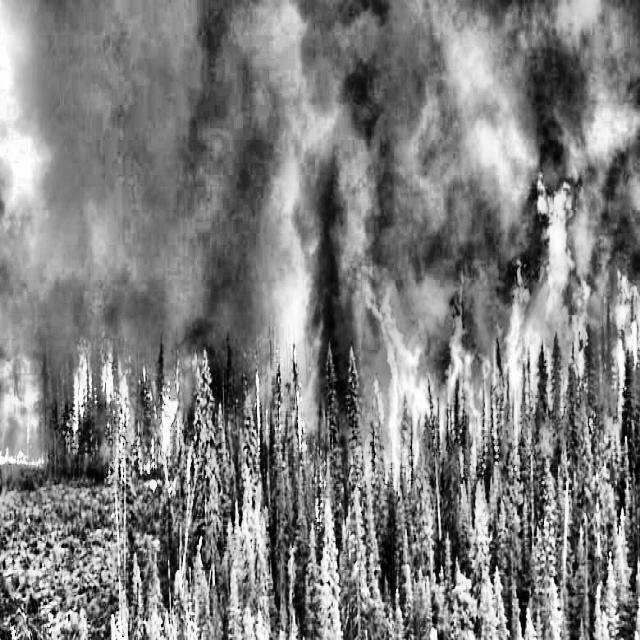fire: (0, 224, 608, 511)
